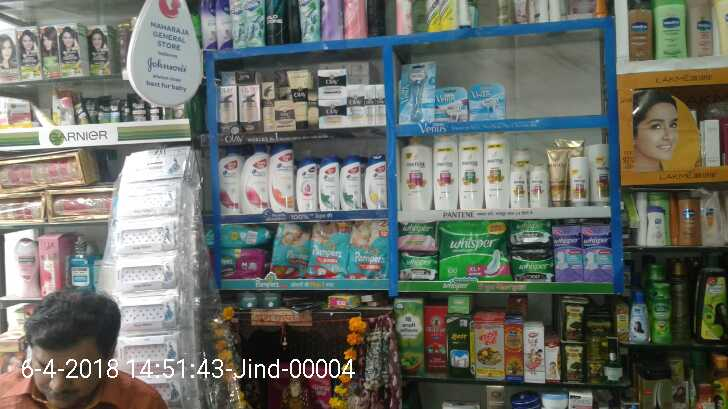venus: (398, 60, 437, 123), (470, 83, 505, 120), (438, 86, 469, 121)
